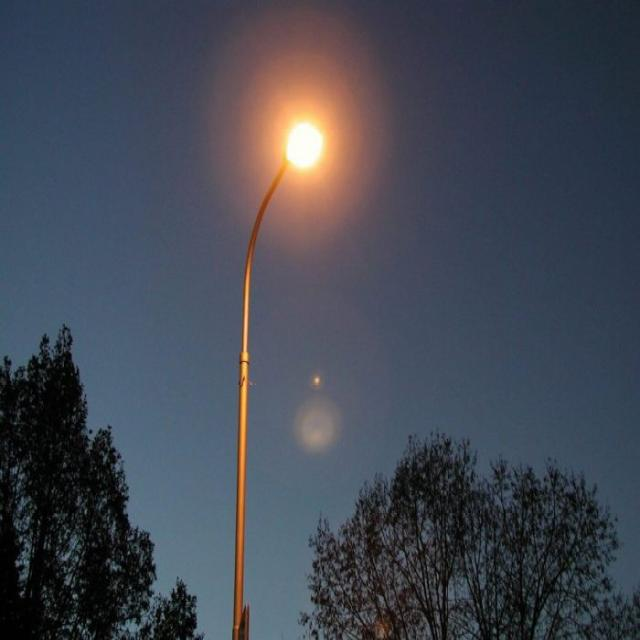Street Light: (232, 123, 325, 640)
